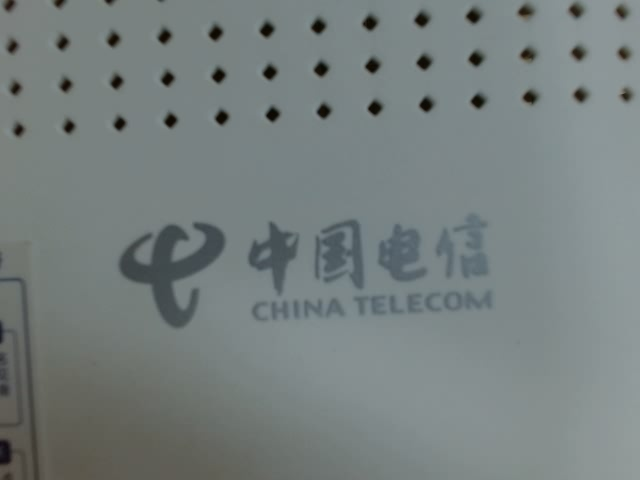ChinaTelecom1: (107, 197, 510, 331)
